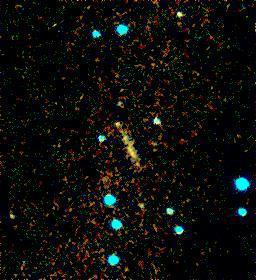star: (104, 107, 134, 137)
